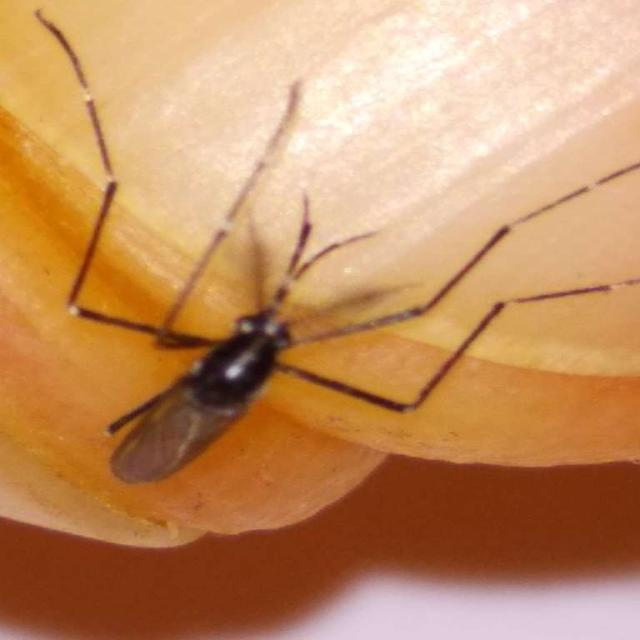albopictus: (44, 58, 622, 476)
